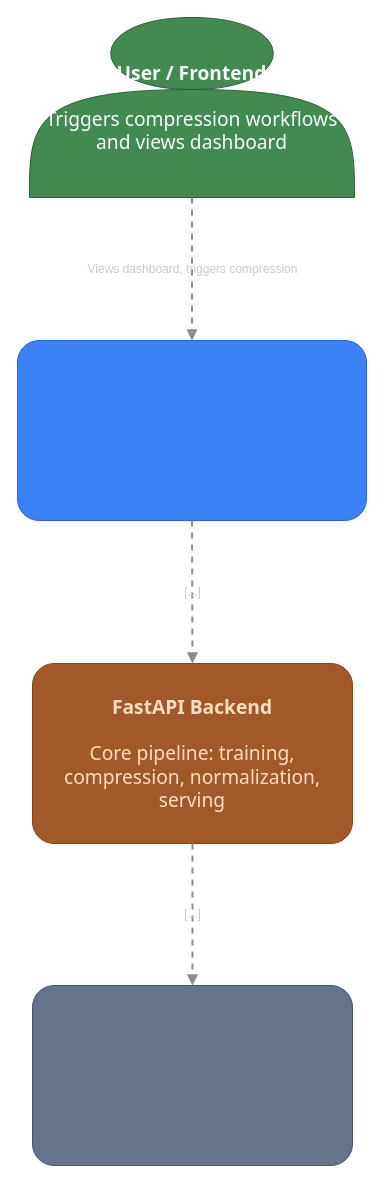
Some shapes in this 384 by 1183 pixel diagram are drawn without their labels. Each missing label, with the box of its shape:
Artifacts & Results All persisted model checkpoints and result JSONs: (32, 984, 352, 1166)
Next.js Frontend Dashboard, charts, compression dialog, image comparison UI: (16, 340, 366, 520)
